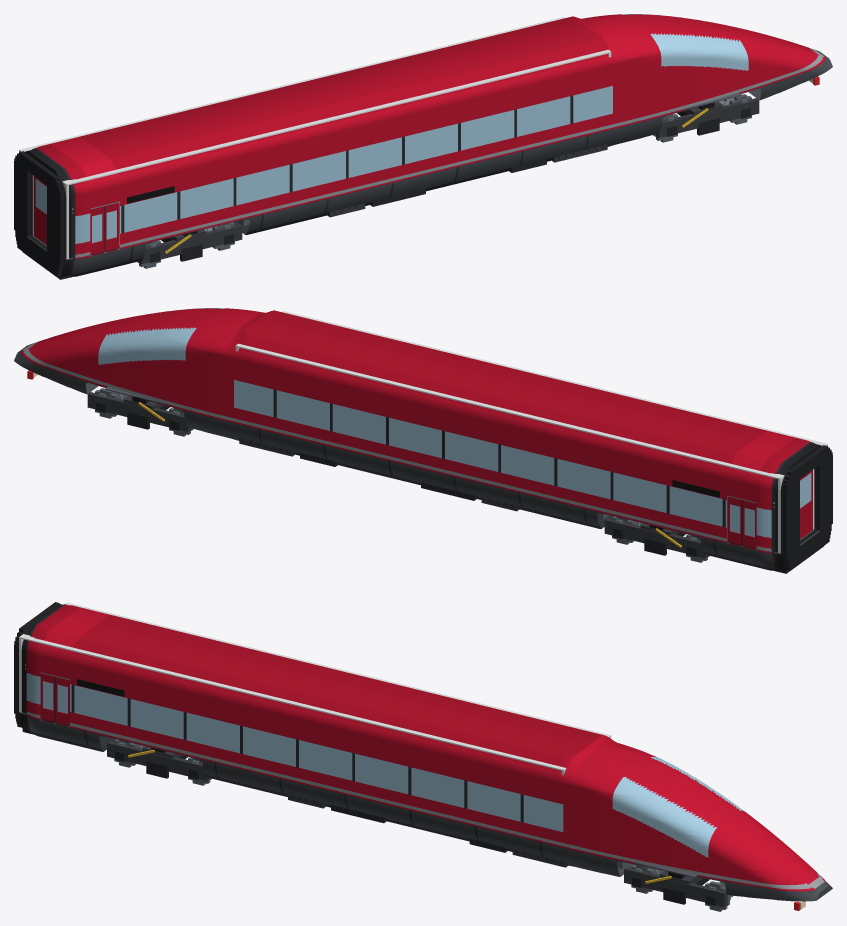
File: frecciarossa_front.obj
3 views of the same model, one above another, from view 1: azimuth 30°, elevation 25°; view 2: azimuth 150°, elevation 25°; view 3: azimuth 330°, elevation 25° (orthographic).
Visible parts, largest first — view 1: SHELL, SHELL_diaphragm, SHELL_ceiling, BOGEY_FRONT, BOGEY_REAR, FRAME, CONNECTING_DOOR_1_CG_CR_TOGGLE_TL_0.98_Z, EXTERNAL_DOOR_3_CG_DR1_TOGGLE_TL_-0.44_X, EXTERNAL_DOOR_4_CG_DR1_TOGGLE_TL_0.44_X; view 2: SHELL, SHELL_diaphragm, SHELL_ceiling, BOGEY_FRONT, BOGEY_REAR, FRAME, CONNECTING_DOOR_1_CG_CR_TOGGLE_TL_0.98_Z, EXTERNAL_DOOR_6_CG_DL1_TOGGLE_TL_-0.44_X, EXTERNAL_DOOR_7_CG_DL1_TOGGLE_TL_0.44_X; view 3: SHELL, SHELL_ceiling, BOGEY_FRONT, BOGEY_REAR, FRAME, EXTERNAL_DOOR_3_CG_DR1_TOGGLE_TL_-0.44_X, EXTERNAL_DOOR_4_CG_DR1_TOGGLE_TL_0.44_X.
Part boxes in pixels (box(x1,y1,x2,y2)): SHELL: box(23, 14, 832, 279); SHELL_diaphragm: box(14, 151, 64, 276); SHELL_ceiling: box(21, 17, 608, 185); BOGEY_FRONT: box(656, 98, 759, 137); BOGEY_REAR: box(139, 224, 242, 263); FRAME: box(90, 144, 607, 255); CONNECTING_DOOR_1_CG_CR_TOGGLE_TL_0.98_Z: box(34, 176, 46, 245); EXTERNAL_DOOR_3_CG_DR1_TOGGLE_TL_-0.44_X: box(90, 206, 105, 254); EXTERNAL_DOOR_4_CG_DR1_TOGGLE_TL_0.44_X: box(105, 202, 119, 250); SHELL: box(14, 308, 823, 573); SHELL_diaphragm: box(782, 445, 832, 570); SHELL_ceiling: box(238, 311, 825, 478); BOGEY_FRONT: box(87, 392, 190, 431); BOGEY_REAR: box(604, 518, 707, 557); FRAME: box(239, 438, 756, 549); CONNECTING_DOOR_1_CG_CR_TOGGLE_TL_0.98_Z: box(800, 470, 812, 539); EXTERNAL_DOOR_6_CG_DL1_TOGGLE_TL_-0.44_X: box(741, 500, 756, 548); EXTERNAL_DOOR_7_CG_DL1_TOGGLE_TL_0.44_X: box(727, 496, 741, 544); SHELL: box(18, 603, 832, 901); SHELL_ceiling: box(21, 603, 608, 770); BOGEY_FRONT: box(624, 867, 726, 907); BOGEY_REAR: box(107, 741, 209, 780); FRAME: box(41, 718, 629, 868); EXTERNAL_DOOR_3_CG_DR1_TOGGLE_TL_-0.44_X: box(40, 673, 55, 721); EXTERNAL_DOOR_4_CG_DR1_TOGGLE_TL_0.44_X: box(55, 677, 69, 725).
Size of the model in its own units: 26.66 by 3.9 by 2.94.
1 material, 1 textured.
